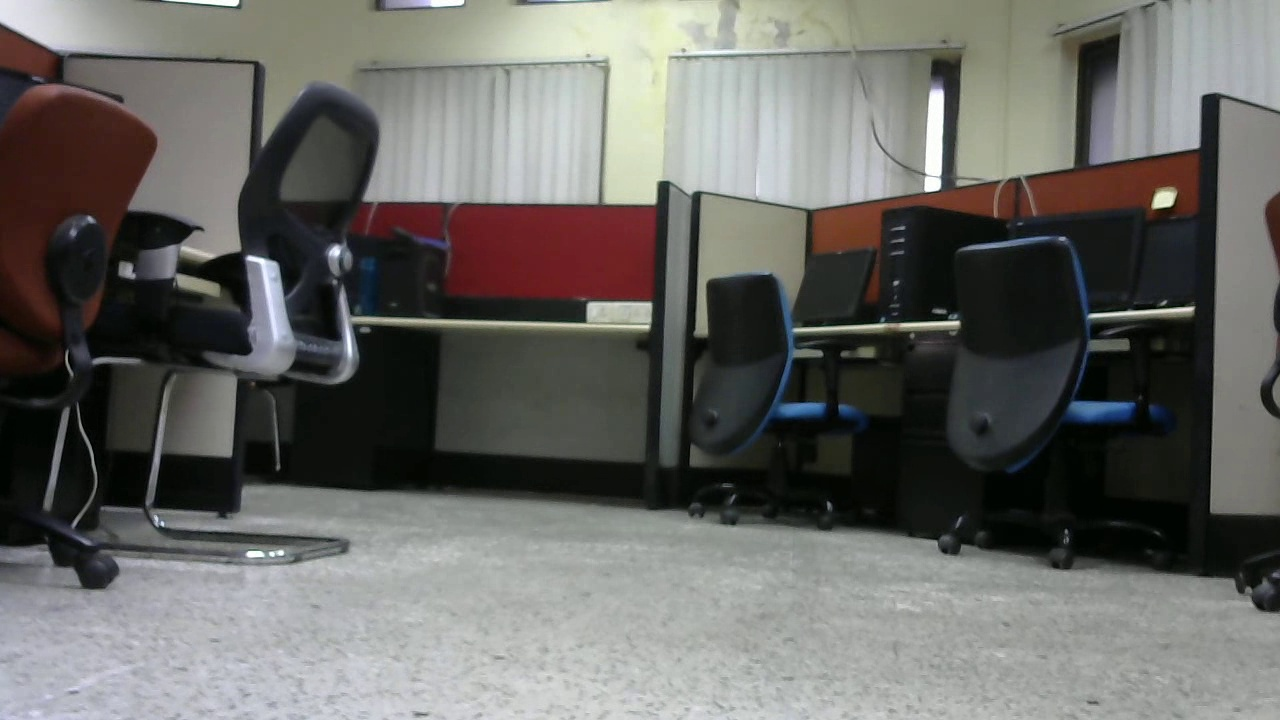chair: (125, 71, 390, 566), (914, 235, 1176, 569), (677, 269, 885, 524)
